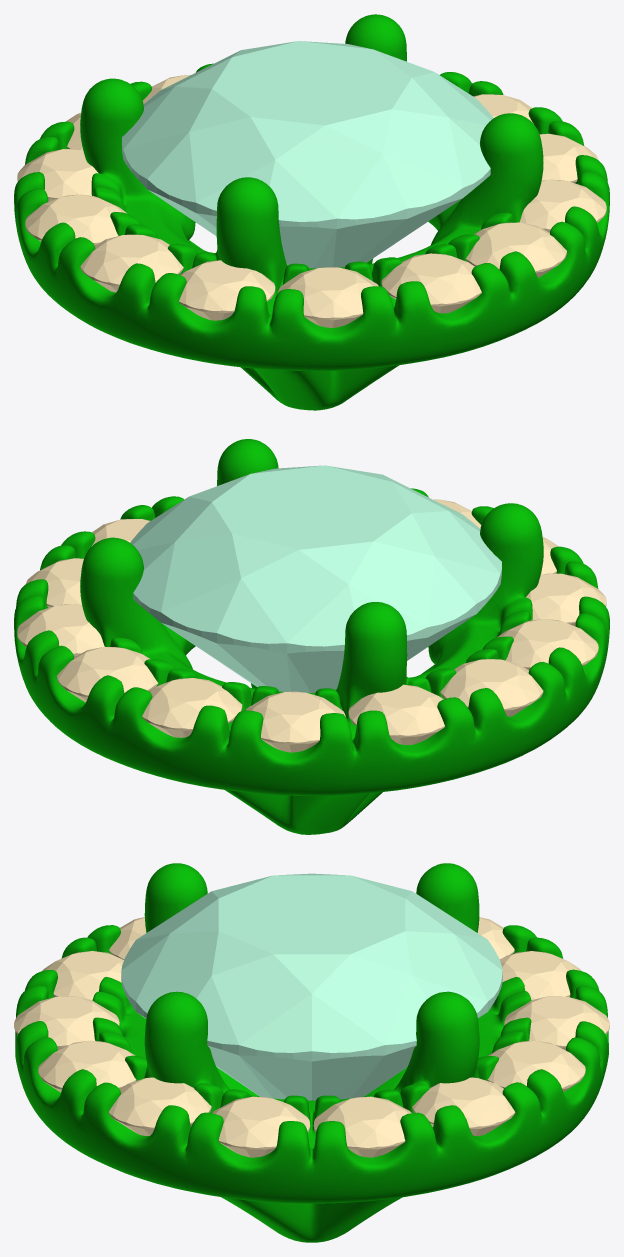
3 views of the same model, one above another, from view 1: azimuth 30°, elevation 25°; view 2: azimuth 150°, elevation 25°; view 3: azimuth 270°, elevation 25° (orthographic).
Parts seen in each view (by area): view 1: Metal01, CS_Diamond, Diamond_Round.010, Diamond_Round.011, Diamond_Round.009, Diamond_Round.008, Diamond_Round.012, Diamond_Round.007, Diamond_Round.013, Diamond_Round.006, Diamond_Round, Diamond_Round.001; view 2: Metal01, CS_Diamond, Diamond_Round.004, Diamond_Round.005, Diamond_Round.006, Diamond_Round.007, Diamond_Round.003, Diamond_Round.008, Diamond_Round.002, Diamond_Round.009, Diamond_Round.001, Diamond_Round; view 3: Metal01, CS_Diamond, Diamond_Round.001, Diamond_Round, Diamond_Round.002, Diamond_Round.013, Diamond_Round.012, Diamond_Round.003, Diamond_Round.011, Diamond_Round.004, Diamond_Round.010, Diamond_Round.005 (+2 smaller).
Boxes of the visible parts, left/top/right/bottom form: Metal01: left=14, top=14, right=609, bottom=410; CS_Diamond: left=122, top=41, right=493, bottom=268; Diamond_Round.010: left=278, top=267, right=378, bottom=327; Diamond_Round.011: left=381, top=253, right=481, bottom=313; Diamond_Round.009: left=179, top=260, right=275, bottom=320; Diamond_Round.008: left=80, top=234, right=183, bottom=292; Diamond_Round.012: left=465, top=222, right=566, bottom=277; Diamond_Round.007: left=25, top=194, right=126, bottom=245; Diamond_Round.013: left=520, top=179, right=606, bottom=232; Diamond_Round.006: left=17, top=149, right=98, bottom=201; Diamond_Round: left=539, top=133, right=598, bottom=183; Diamond_Round.001: left=473, top=94, right=533, bottom=123; Metal01: left=14, top=439, right=609, bottom=834; CS_Diamond: left=130, top=465, right=501, bottom=692; Diamond_Round.004: left=142, top=678, right=242, bottom=737; Diamond_Round.005: left=245, top=691, right=345, bottom=752; Diamond_Round.006: left=348, top=684, right=444, bottom=744; Diamond_Round.007: left=440, top=659, right=543, bottom=716; Diamond_Round.003: left=57, top=647, right=158, bottom=702; Diamond_Round.008: left=497, top=619, right=598, bottom=670; Diamond_Round.002: left=17, top=604, right=104, bottom=657; Diamond_Round.009: left=526, top=573, right=606, bottom=626; Diamond_Round.001: left=26, top=558, right=83, bottom=607; Diamond_Round: left=91, top=519, right=149, bottom=546; Metal01: left=15, top=863, right=608, bottom=1242; CS_Diamond: left=121, top=873, right=502, bottom=1100; Diamond_Round.001: left=313, top=1096, right=411, bottom=1157; Diamond_Round: left=212, top=1096, right=310, bottom=1157; Diamond_Round.002: left=412, top=1077, right=515, bottom=1135; Diamond_Round.013: left=108, top=1077, right=211, bottom=1135; Diamond_Round.012: left=38, top=1040, right=136, bottom=1092; Diamond_Round.003: left=487, top=1040, right=585, bottom=1092; Diamond_Round.011: left=14, top=996, right=119, bottom=1050; Diamond_Round.004: left=504, top=996, right=609, bottom=1050; Diamond_Round.010: left=42, top=951, right=123, bottom=999; Diamond_Round.005: left=500, top=951, right=581, bottom=999.
Size of the model in its own units: 10.17 by 5.93 by 10.16.
